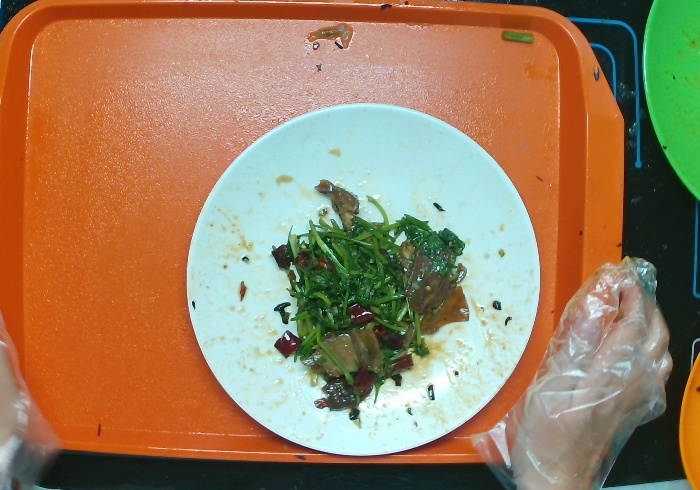HZYJPL-Bai_Se_Yuan_Pan: (185, 100, 542, 457)
